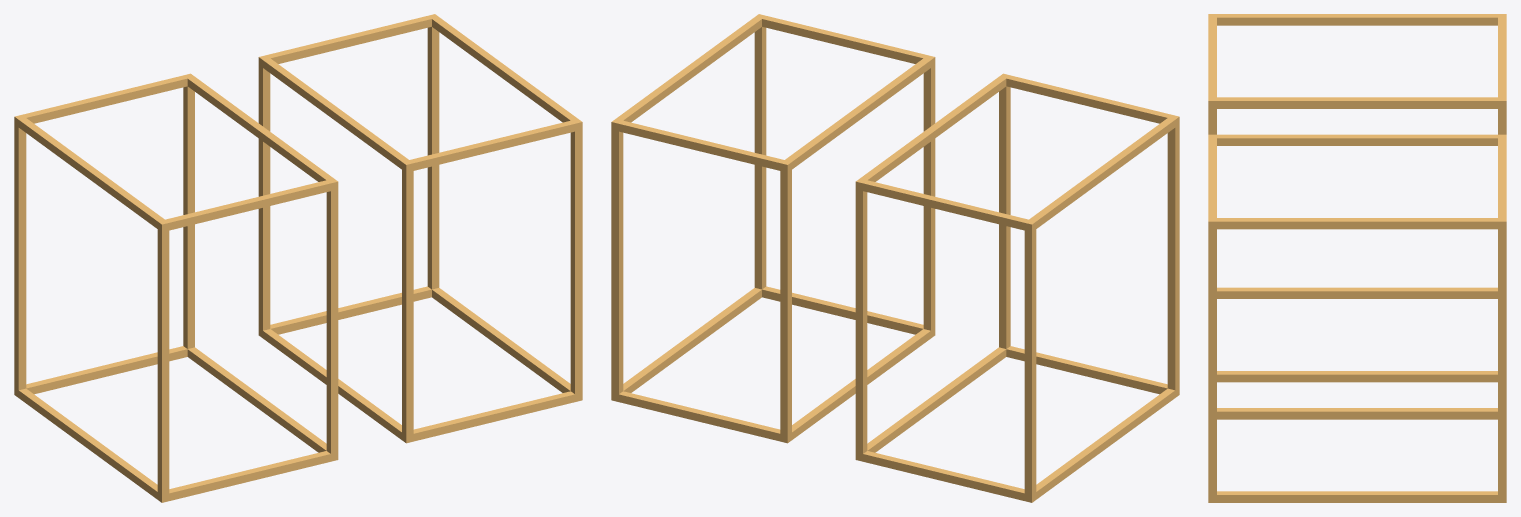
Rendered from snowboardshoes.glb.
3 renders of one model, left to right at view 1: azimuth 30°, elevation 25°; view 2: azimuth 150°, elevation 25°; view 3: azimuth 270°, elevation 25°, orthographic.
Parts seen in each view (by area): view 1: box_0, box_1; view 2: box_0, box_1; view 3: box_1, box_0.
Boxes of the visible parts, x1,y1,x2,y2 form: box_0: [14, 73, 338, 502]; box_1: [258, 14, 582, 443]; box_0: [855, 73, 1179, 502]; box_1: [611, 14, 935, 443]; box_1: [1208, 134, 1506, 502]; box_0: [1208, 14, 1506, 382].
Bounding box in the file's own units: 0.5652 × 0.3575 × 0.3434.
